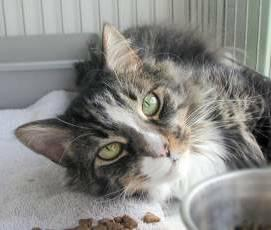cat: (15, 23, 270, 200)
